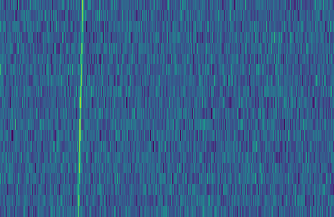signal: (71, 0, 84, 217)
